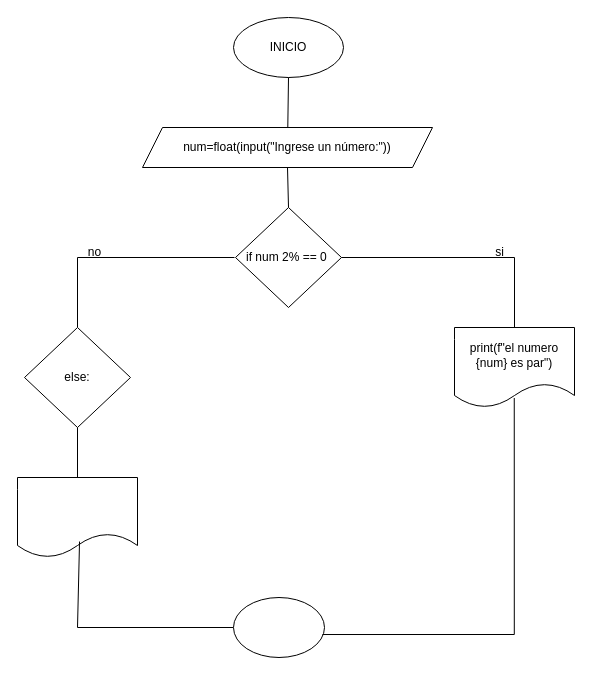
The diagram is 592 pixels wide and 675 high, and some of its shapes have lost their labels. Each missing label, with the centre of its shape:
FIN: (x=278, y=627)
print(f"el numero es impar"): (x=77, y=517)
